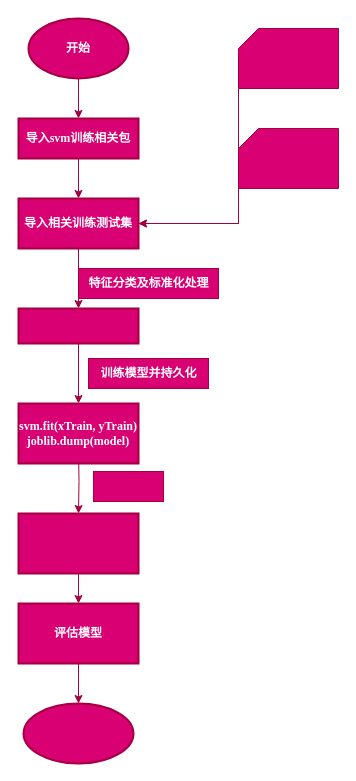
The diagram is 356 pixels wide and 781 high, and some of its shapes have lost their labels. Each missing label, with the box of its shape:
(X-X.mean()) / X.max(): (17, 307, 139, 344)
model.predict(): (17, 512, 139, 574)
模型预测: (92, 470, 164, 502)
结束: (22, 702, 134, 764)
